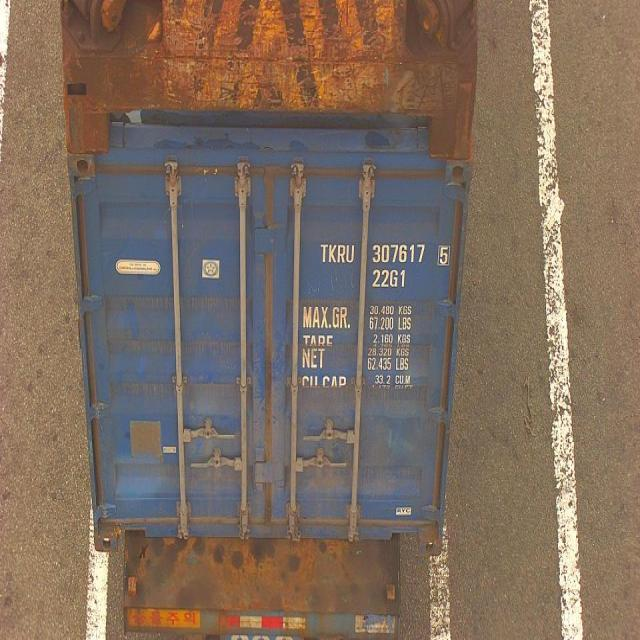ISO: (373, 270, 406, 288)
container_number: (319, 236, 452, 268)
